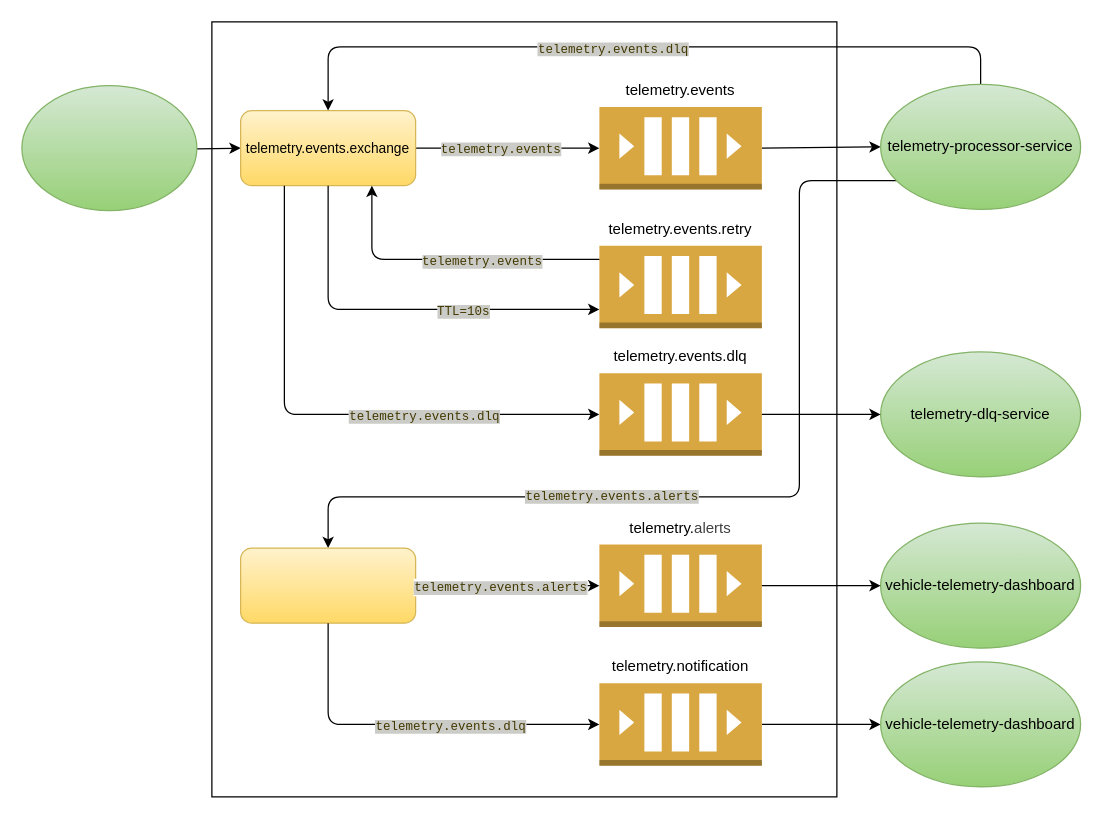
Some shapes in this 1103 by 819 pixel diagram are drawn without their labels. The centre of each missing label's shape, as x and y in pixels:
telemetry.alerts.exchange: the point at 327,585
vehicle-ingestion-service: the point at 109,147
